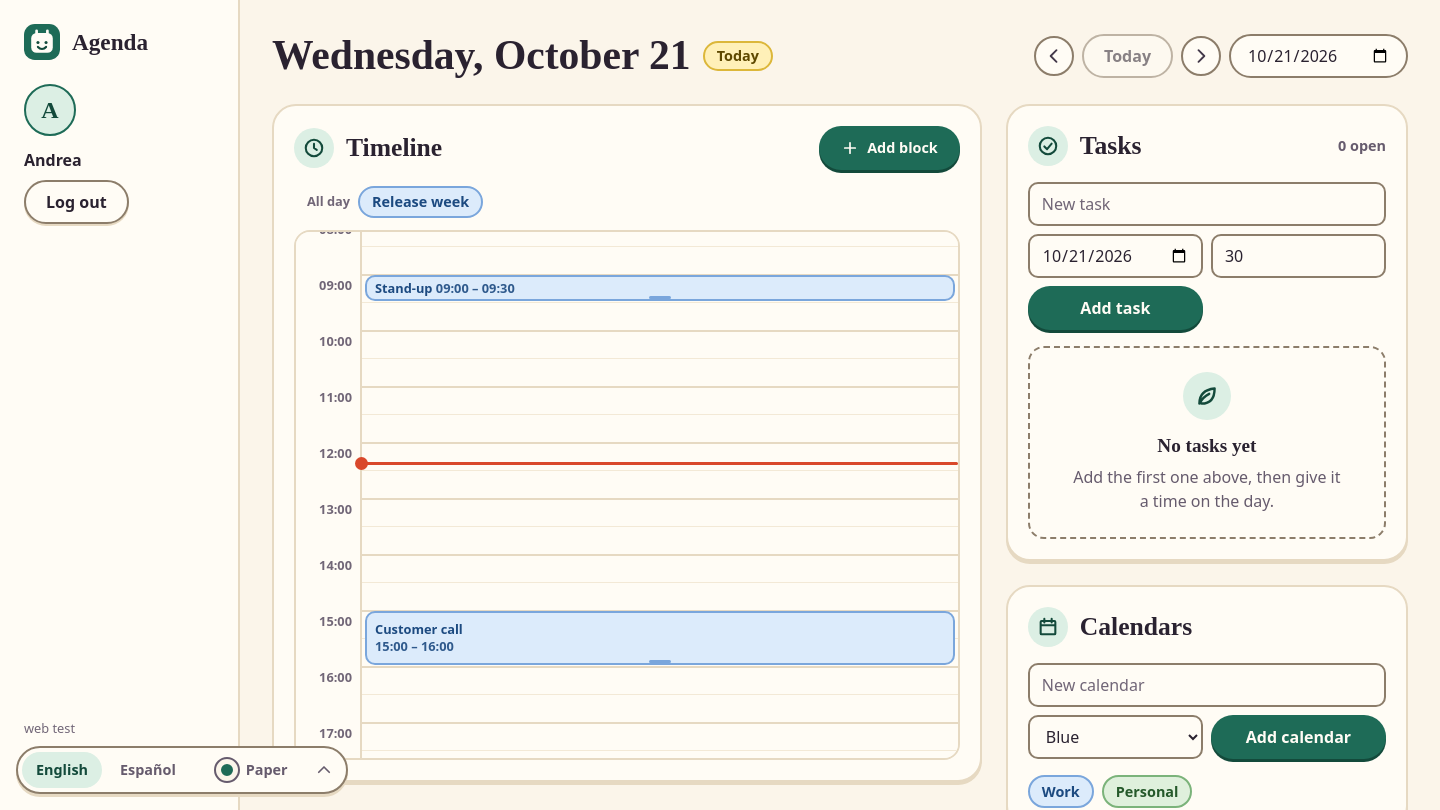
it: planning a day › moves to another day and shows what is planned there
The width and height of the screenshot is (1440, 810).
(page scrolled)
Click the button named "Next day". click: (1201, 56)
box: [1181,36,1221,76]
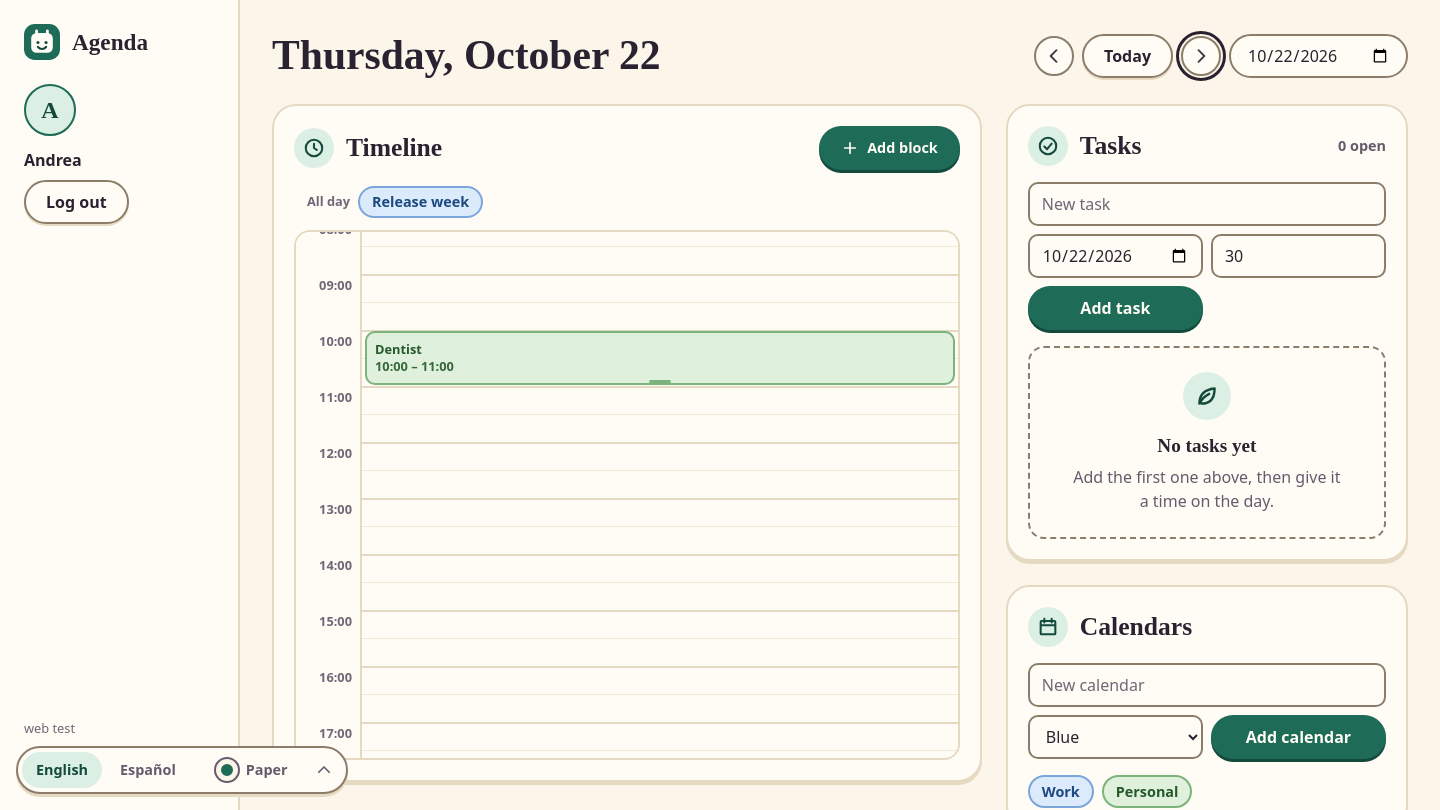
Expected: the button named "Dentist 10:00 – 11:00 Personal" is shown, [365,331,955,385]
Expected: the button "Stand-up" is gone
Click the button "Today". click: (1128, 56)
box: [1082,34,1173,78]
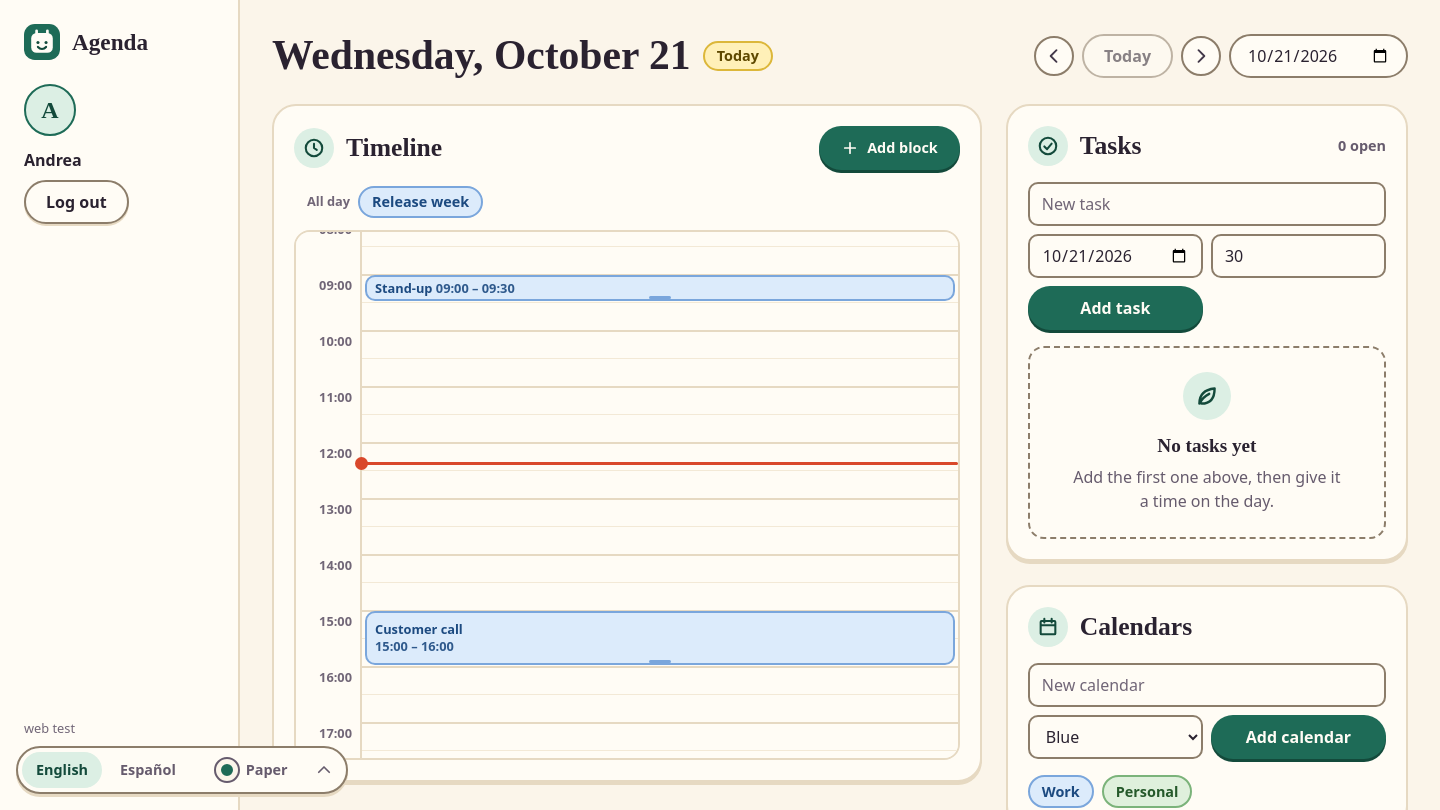
Expected: the button "Stand-up 09:00 – 09:30" is shown, [365,275,955,301]
